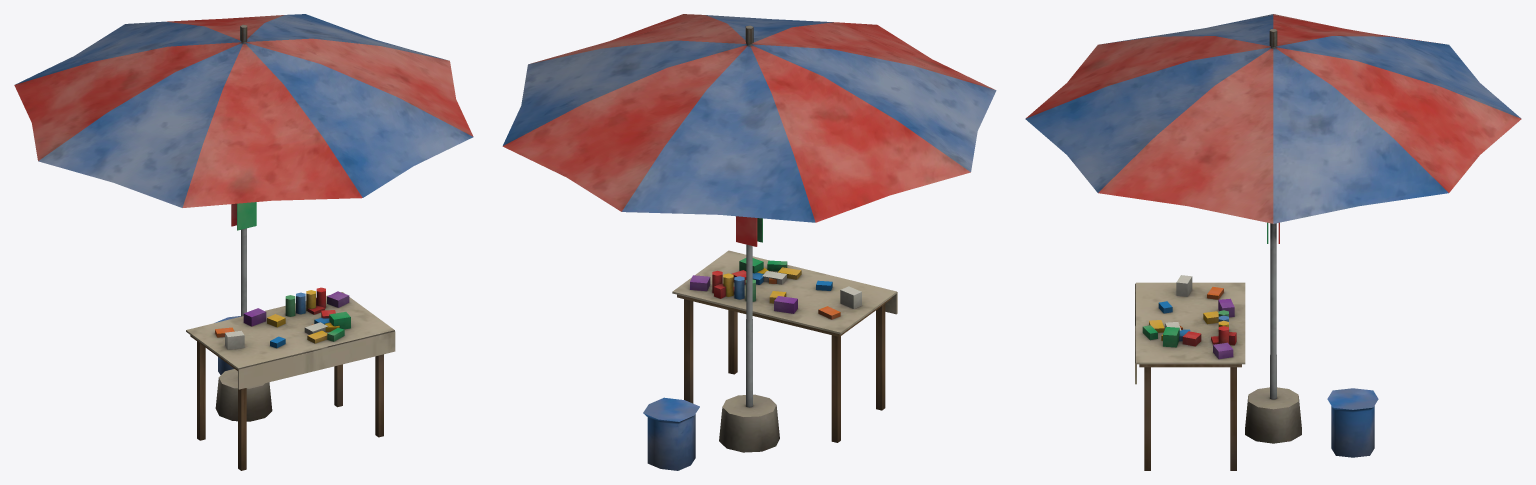
File: umbrella_stall.glb
3 views of the same model, side by side, from view 1: azimuth 30°, elevation 25°; view 2: azimuth 150°, elevation 25°; view 3: azimuth 270°, elevation 25° (orthographic). The views are drawn at different scales.
Visible parts, largest first — view 1: body; view 2: body; view 3: body.
Boxes of the visible parts, <box> form: body: <box>14,14,473,470</box>; body: <box>502,14,996,470</box>; body: <box>1025,14,1521,470</box>.
Bounding box in the file's own units: 3 × 2.67 × 3.
1 material, 1 textured.
